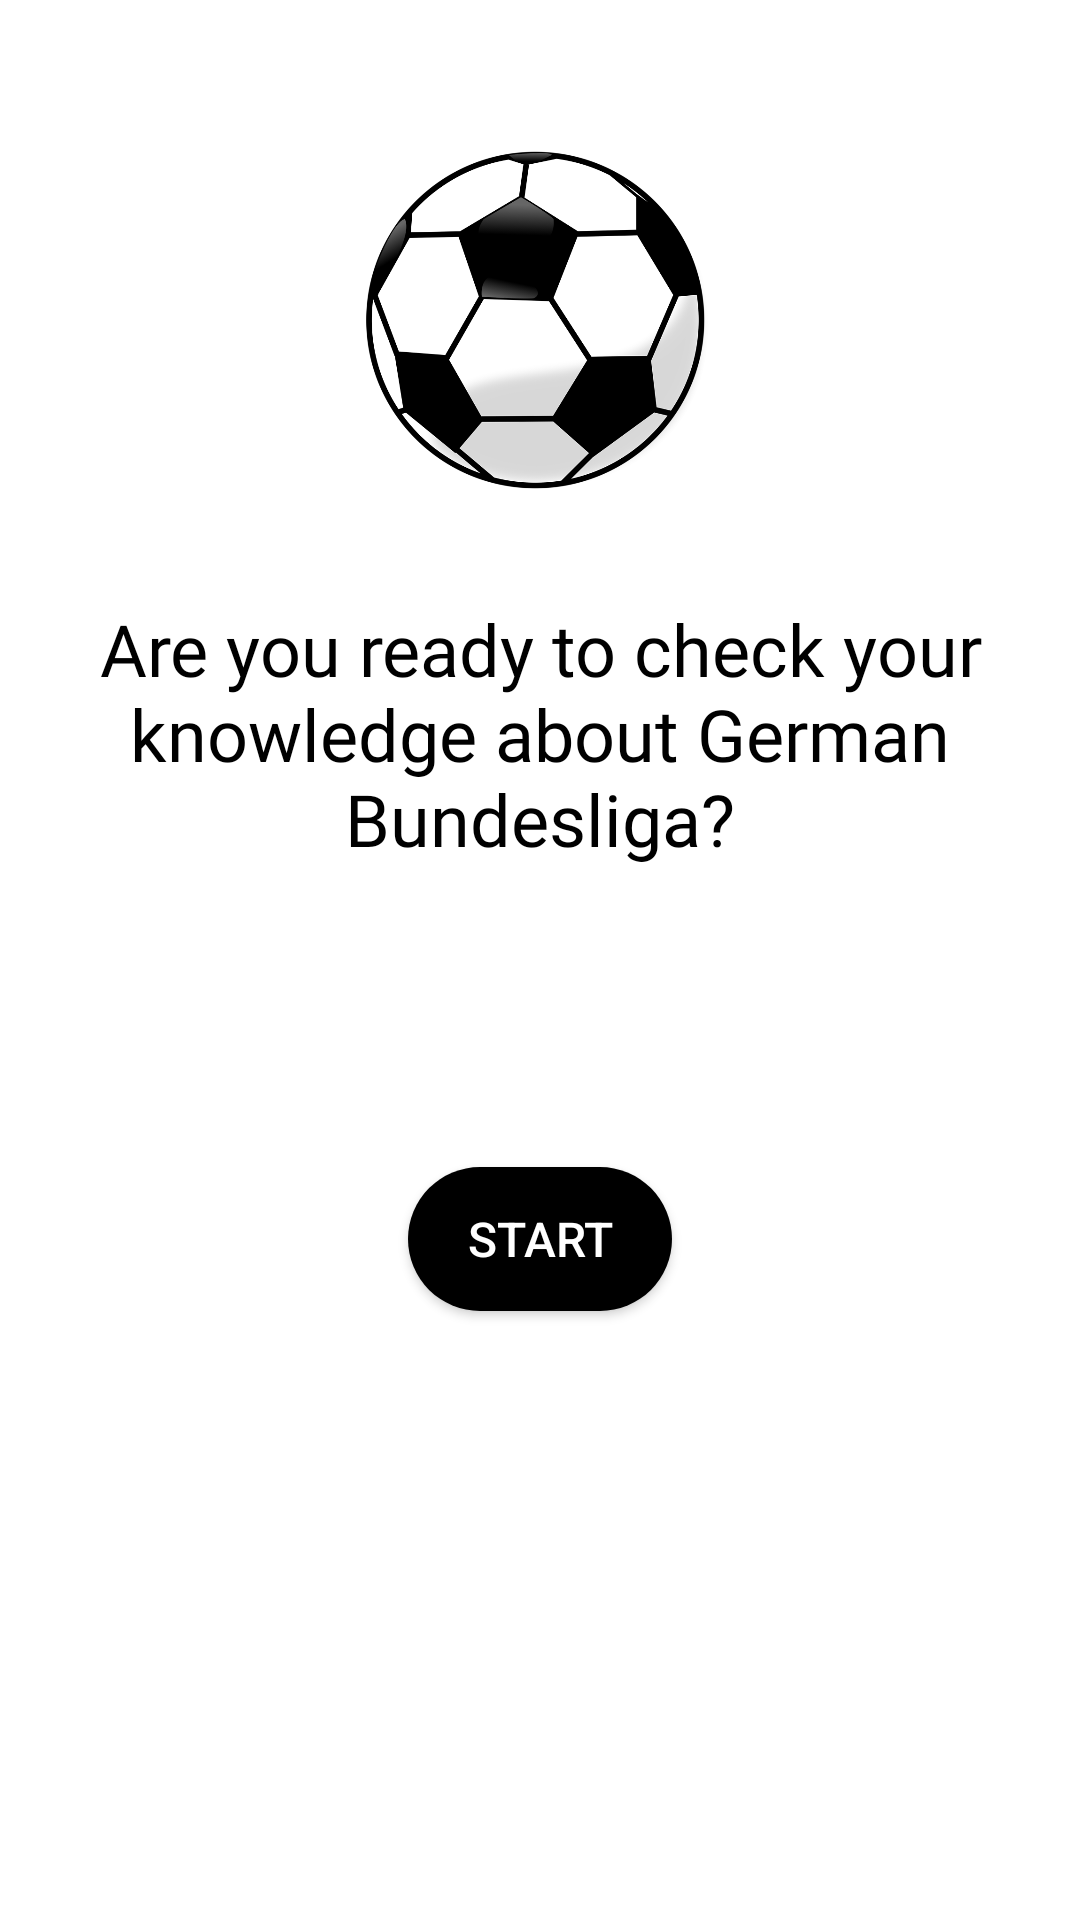

Named icons in this screenshot (1080×1920) and their centers, point (x, y):
ball: point (535, 320)
